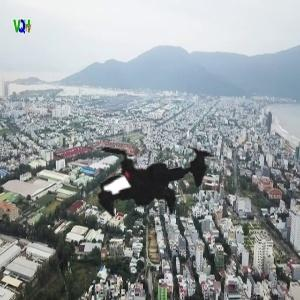drone: (59, 78, 246, 265)
